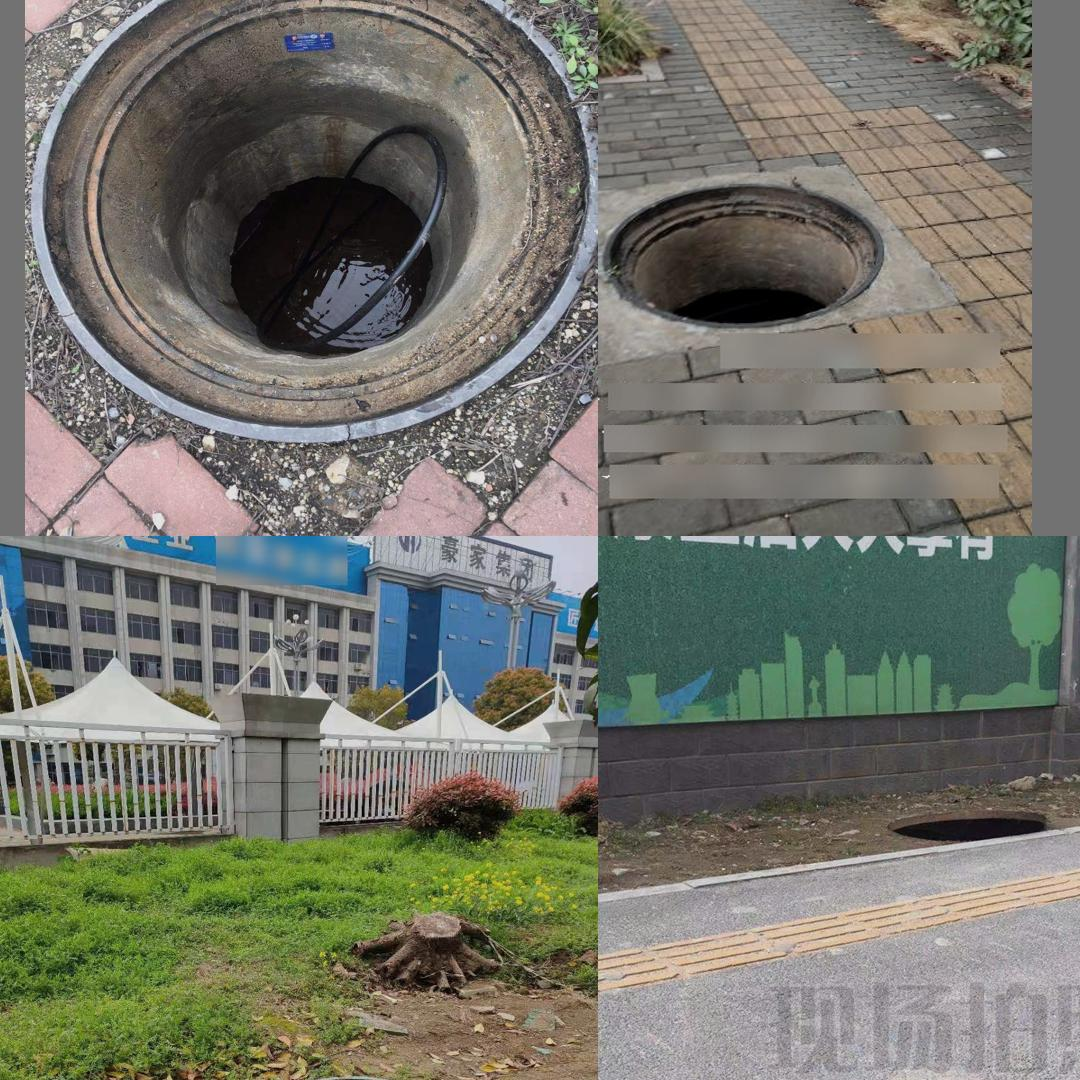lose: (36, 0, 587, 411), (598, 180, 882, 329), (885, 807, 1053, 847), (253, 1075, 476, 1080)
